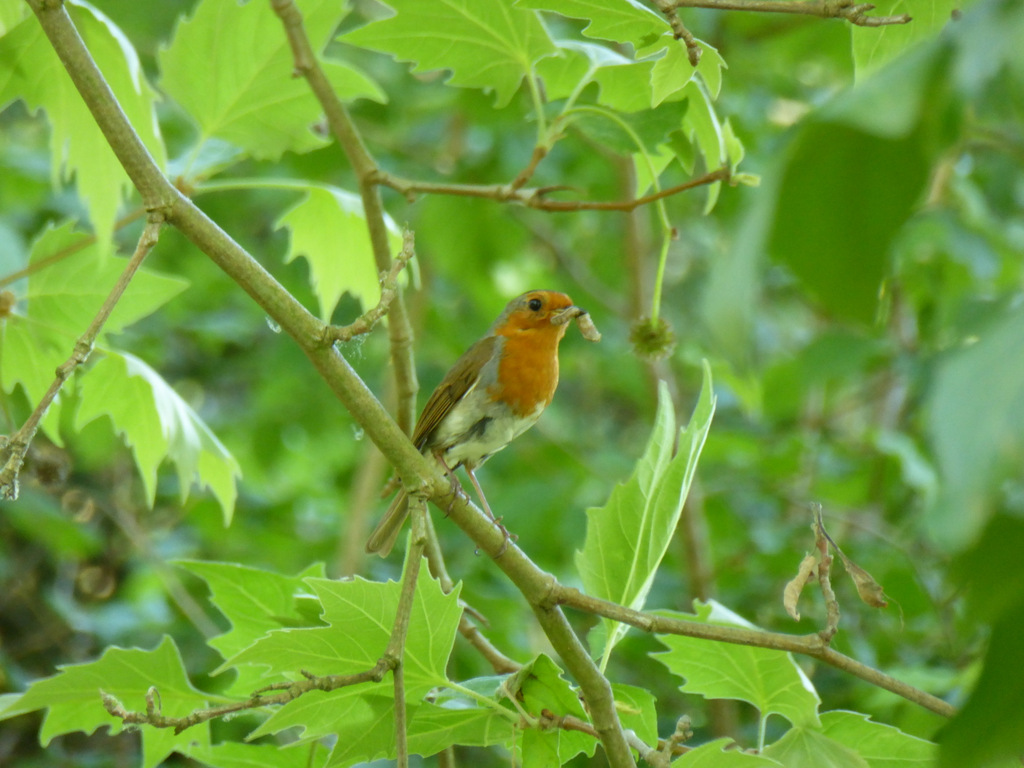Bird: (363, 290, 602, 557)
